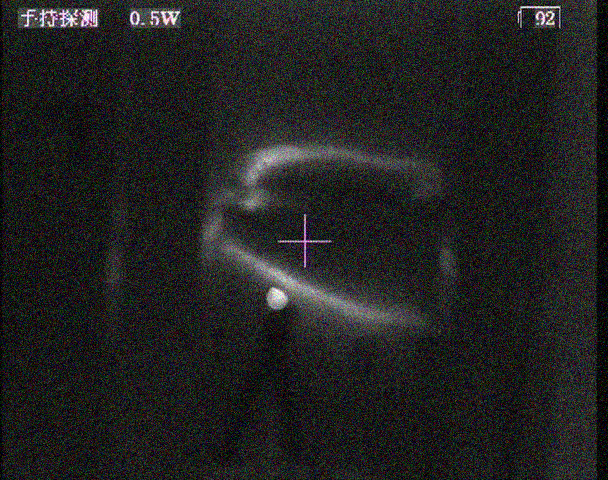my: (264, 284, 290, 310)
